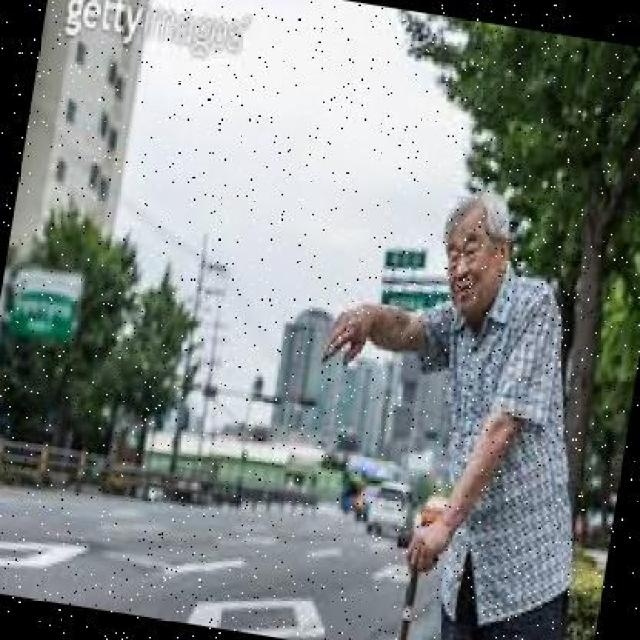obstacle: (276, 166, 636, 639)
